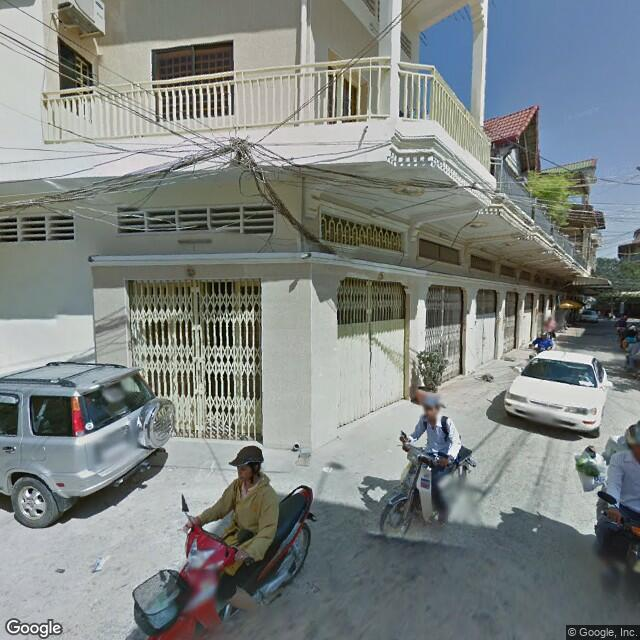litter: (320, 461, 338, 478)
